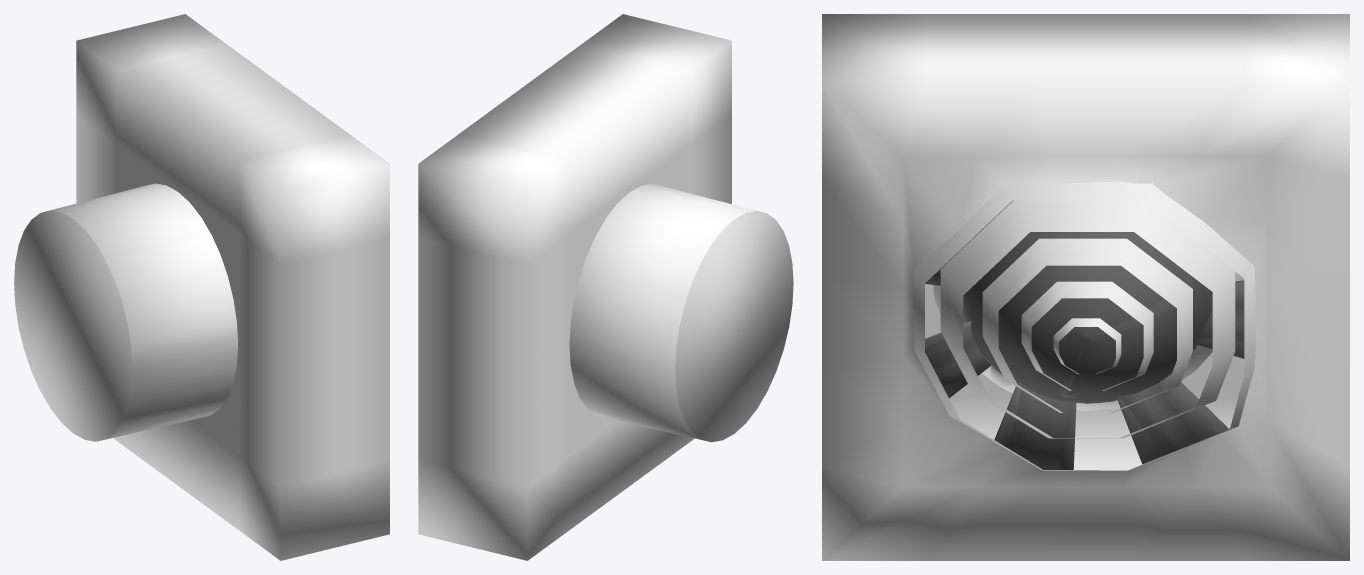
File: WentylatorKuchenny.fbx
3 views of the same model, side by side, from view 1: azimuth 30°, elevation 25°; view 2: azimuth 150°, elevation 25°; view 3: azimuth 270°, elevation 25° (orthographic). The views are drawn at different scales.
Visible parts, largest first — view 1: Cube, Cylinder; view 2: Cube, Cylinder; view 3: Cube, Plane, Cylinder.
Boxes of the visible parts, box(x1,y1,x2,y2) form: Cube: box(76, 14, 389, 560); Cylinder: box(14, 183, 237, 441); Cube: box(418, 14, 731, 560); Cylinder: box(569, 184, 793, 442); Cube: box(822, 14, 1349, 560); Plane: box(913, 181, 1255, 470); Cylinder: box(925, 200, 1244, 469).
Bounding box in the file's own units: 141 × 200 × 200.
